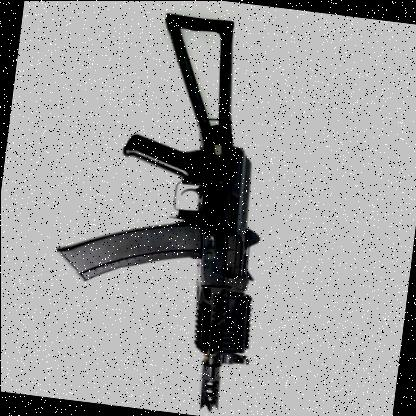rifle: (17, 0, 296, 416)
